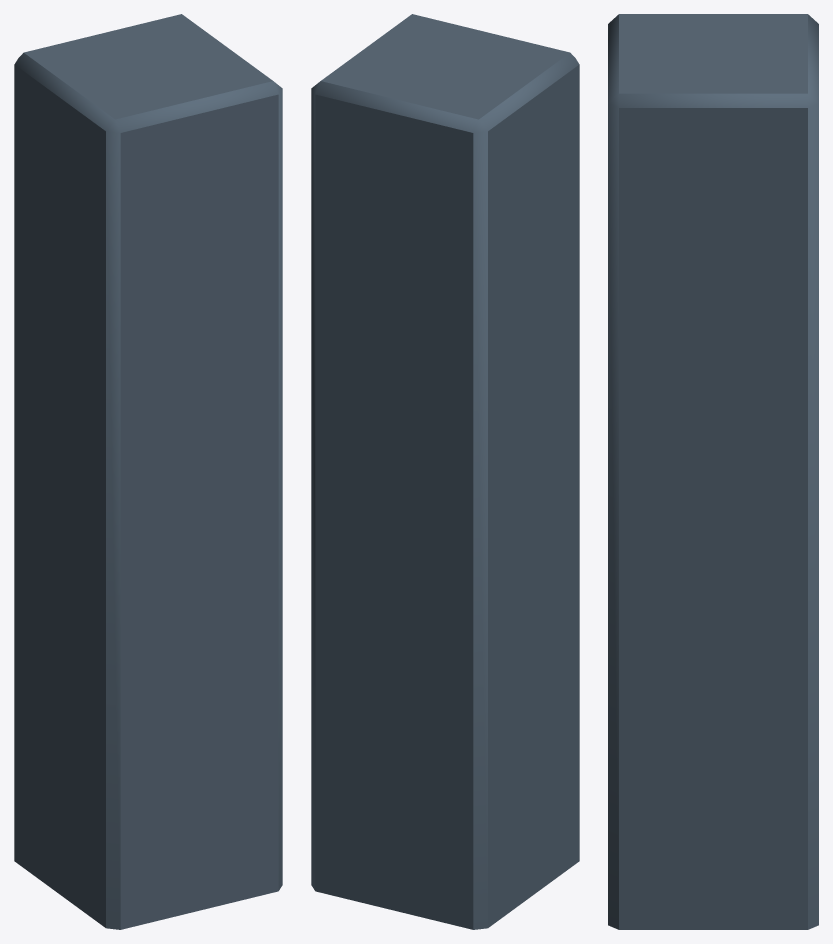
Rendered from Pilar_C_1.fbx.
3 views of the same model, side by side, from view 1: azimuth 30°, elevation 25°; view 2: azimuth 150°, elevation 25°; view 3: azimuth 270°, elevation 25° (orthographic). The views are drawn at different scales.
Parts seen in each view (by area): view 1: Pilar_C_1; view 2: Pilar_C_1; view 3: Pilar_C_1.
Part boxes in pixels (bbox=[...]): Pilar_C_1: bbox=[14, 14, 282, 929]; Pilar_C_1: bbox=[311, 14, 579, 929]; Pilar_C_1: bbox=[608, 14, 818, 929].
Bounding box in the file's own units: 54.96 × 240 × 55.1.
